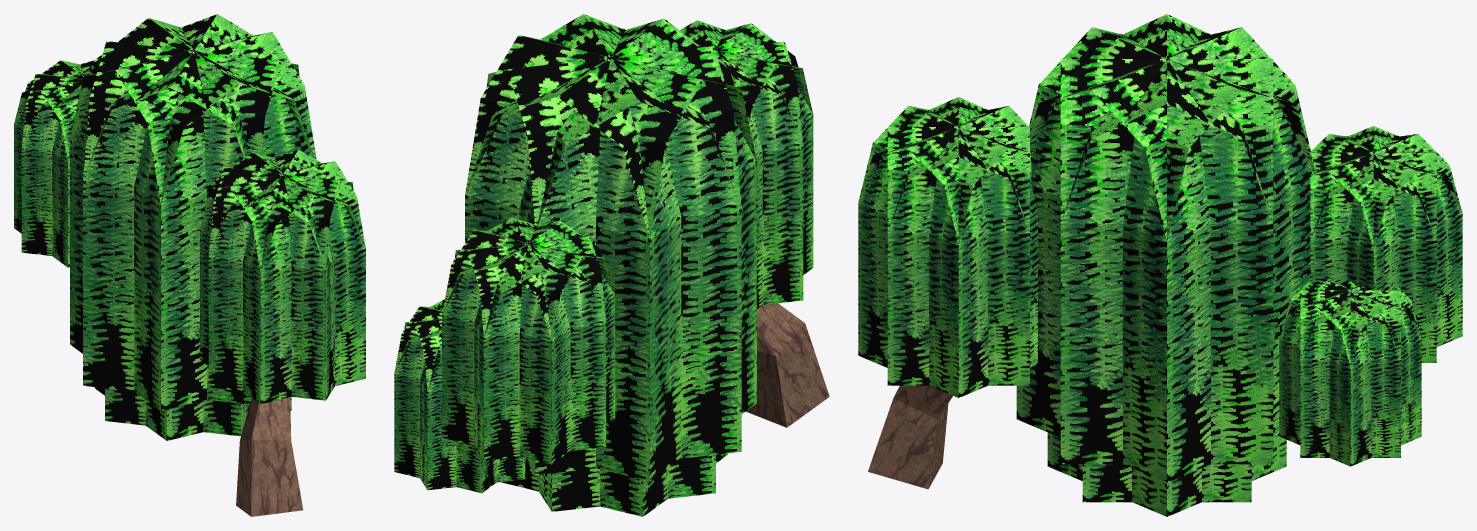
File: treeA.fbx
The picture shows the model from 3 angles, left to right: view 1: azimuth 30°, elevation 25°; view 2: azimuth 150°, elevation 25°; view 3: azimuth 270°, elevation 25°; orthographic projection. The views are drawn at different scales.
Parts seen in each view (by area): view 1: Branch 1; view 2: Branch 1; view 3: Branch 1.
Boxes of the visible parts, x1,y1,x2,y2 form: Branch 1: [14, 14, 365, 516]; Branch 1: [394, 14, 829, 516]; Branch 1: [858, 14, 1462, 516].
Size of the model in its own units: 737 by 1178 by 1483.
Materials: 21 (21 with a texture image).
